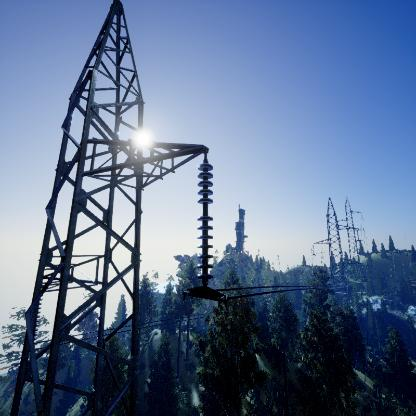insulator: (196, 161, 216, 283)
